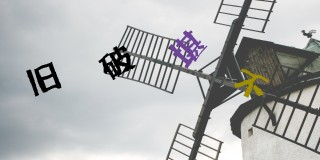不: (234, 67, 266, 100)
堪: (169, 30, 208, 70)
旧: (25, 61, 61, 98)
破: (98, 46, 136, 80)
